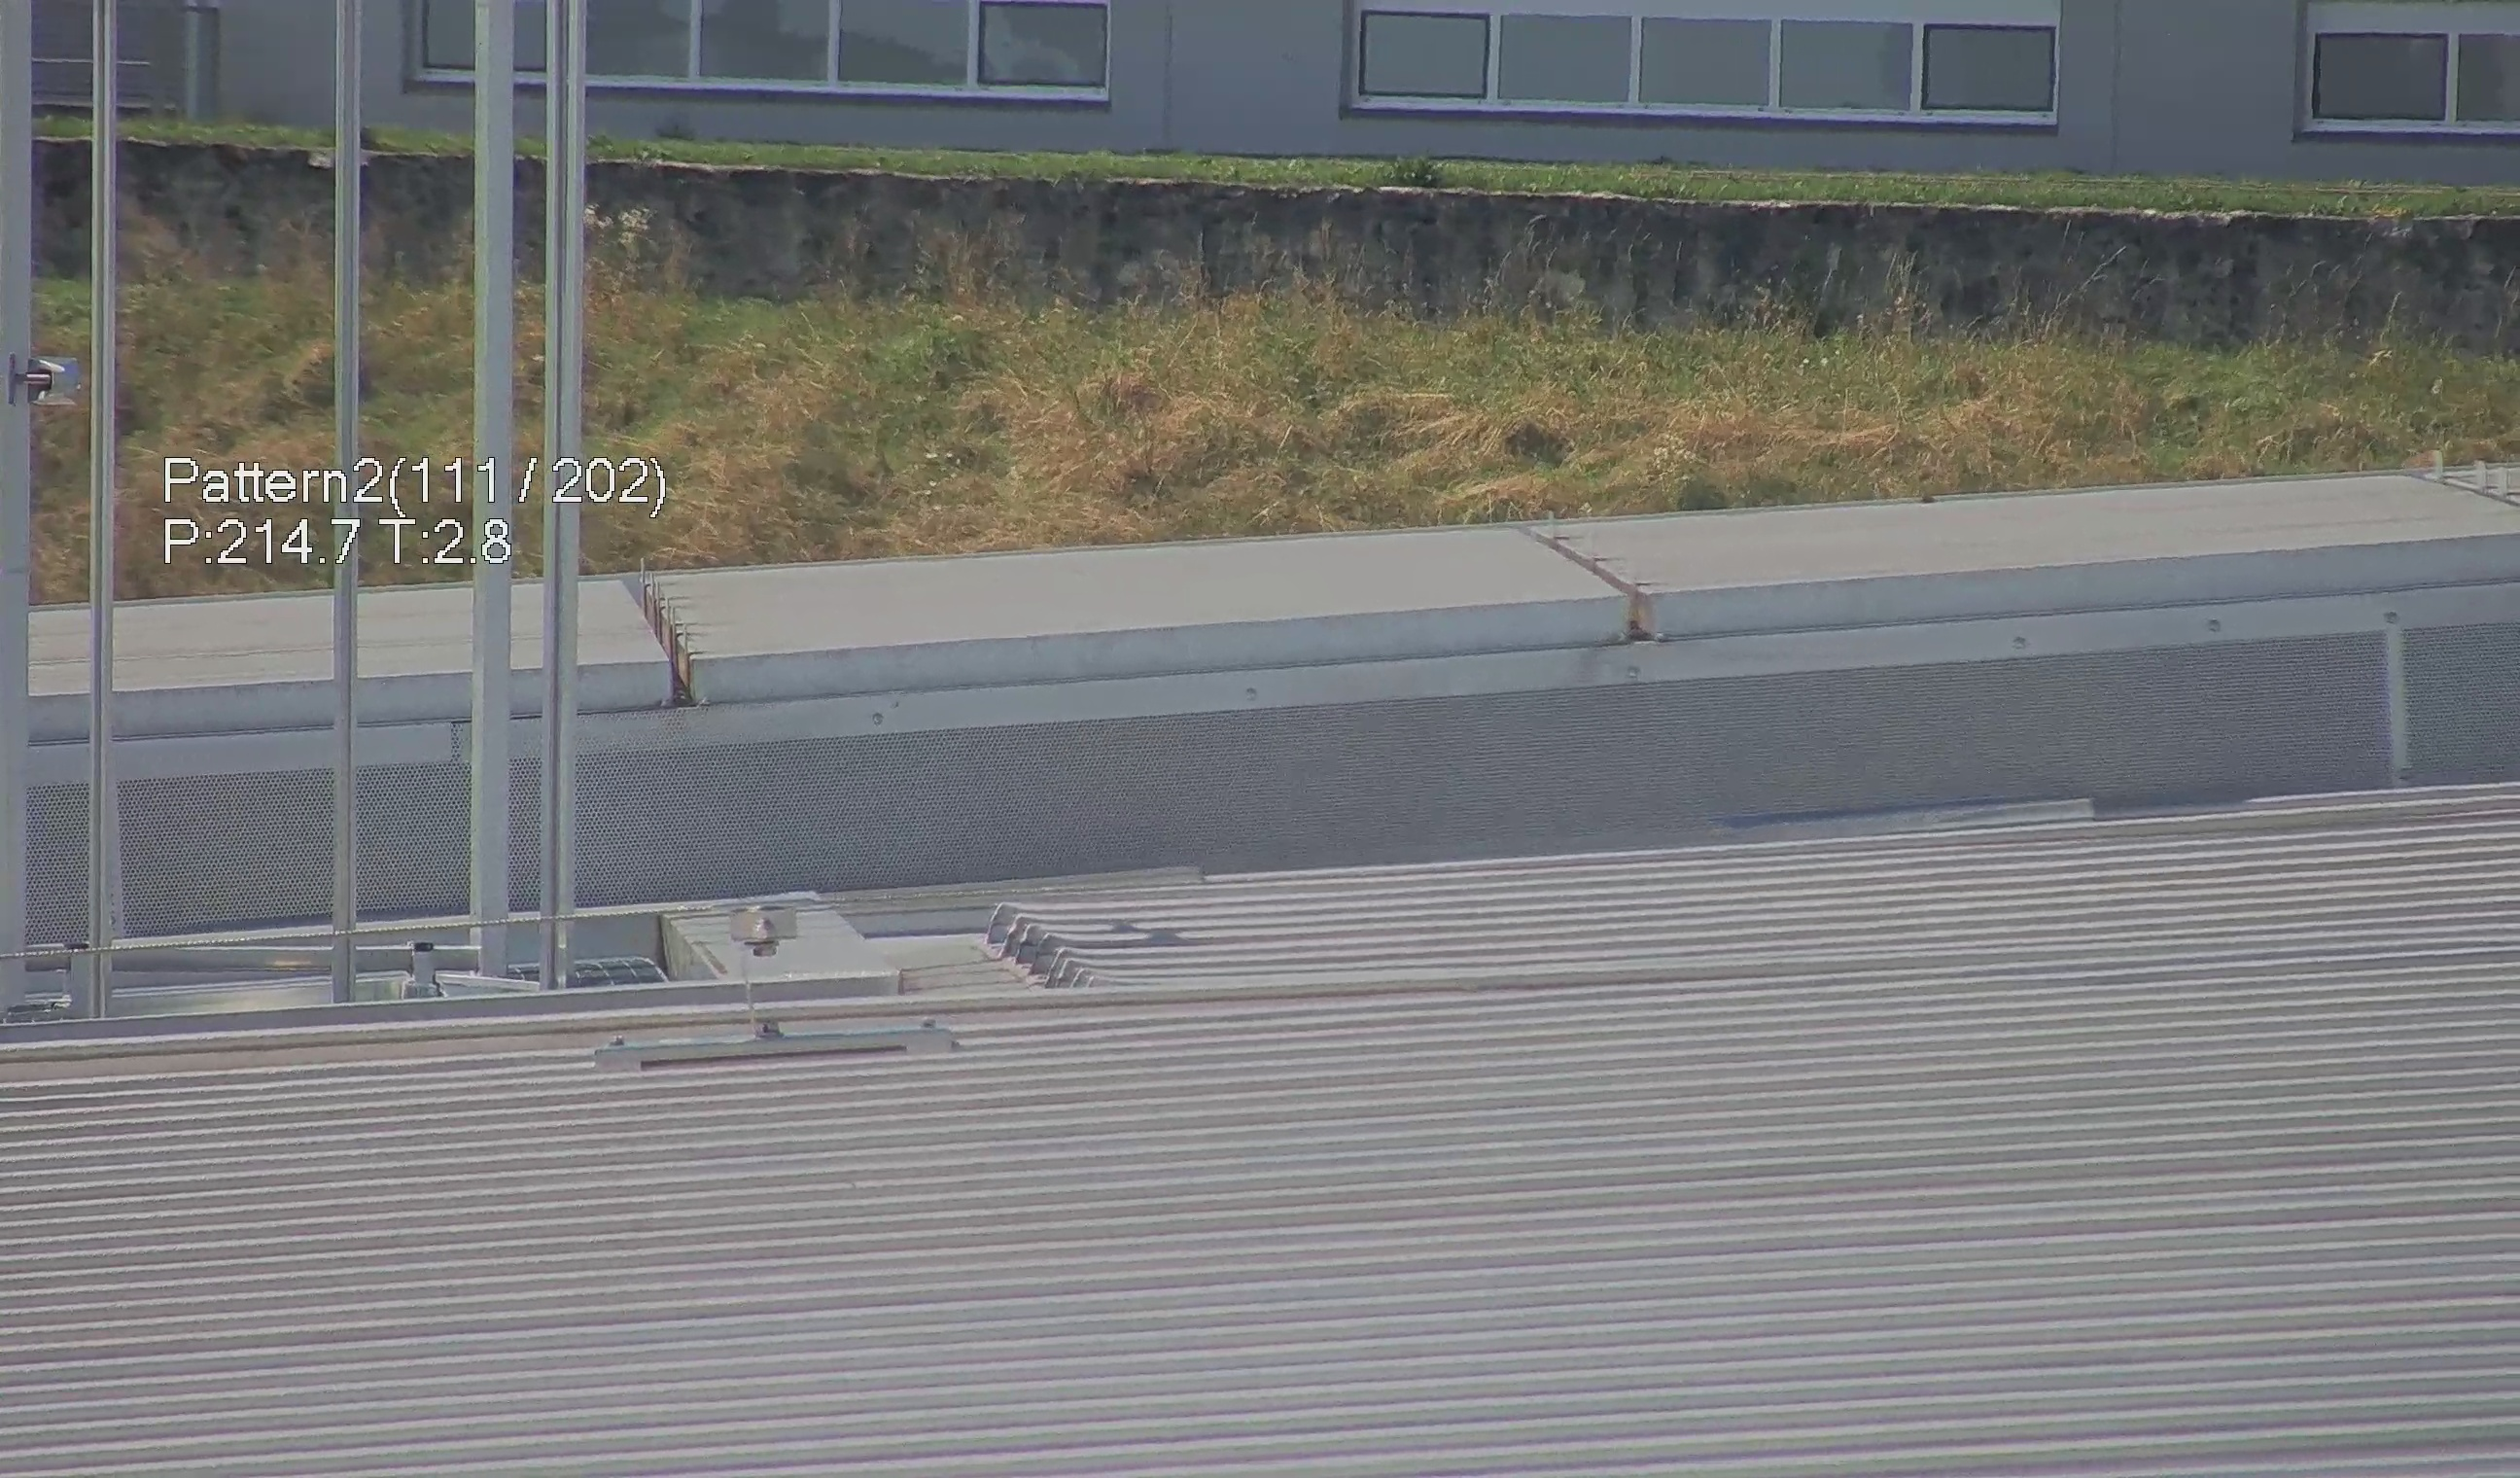Other: (981, 896, 1099, 1005)
